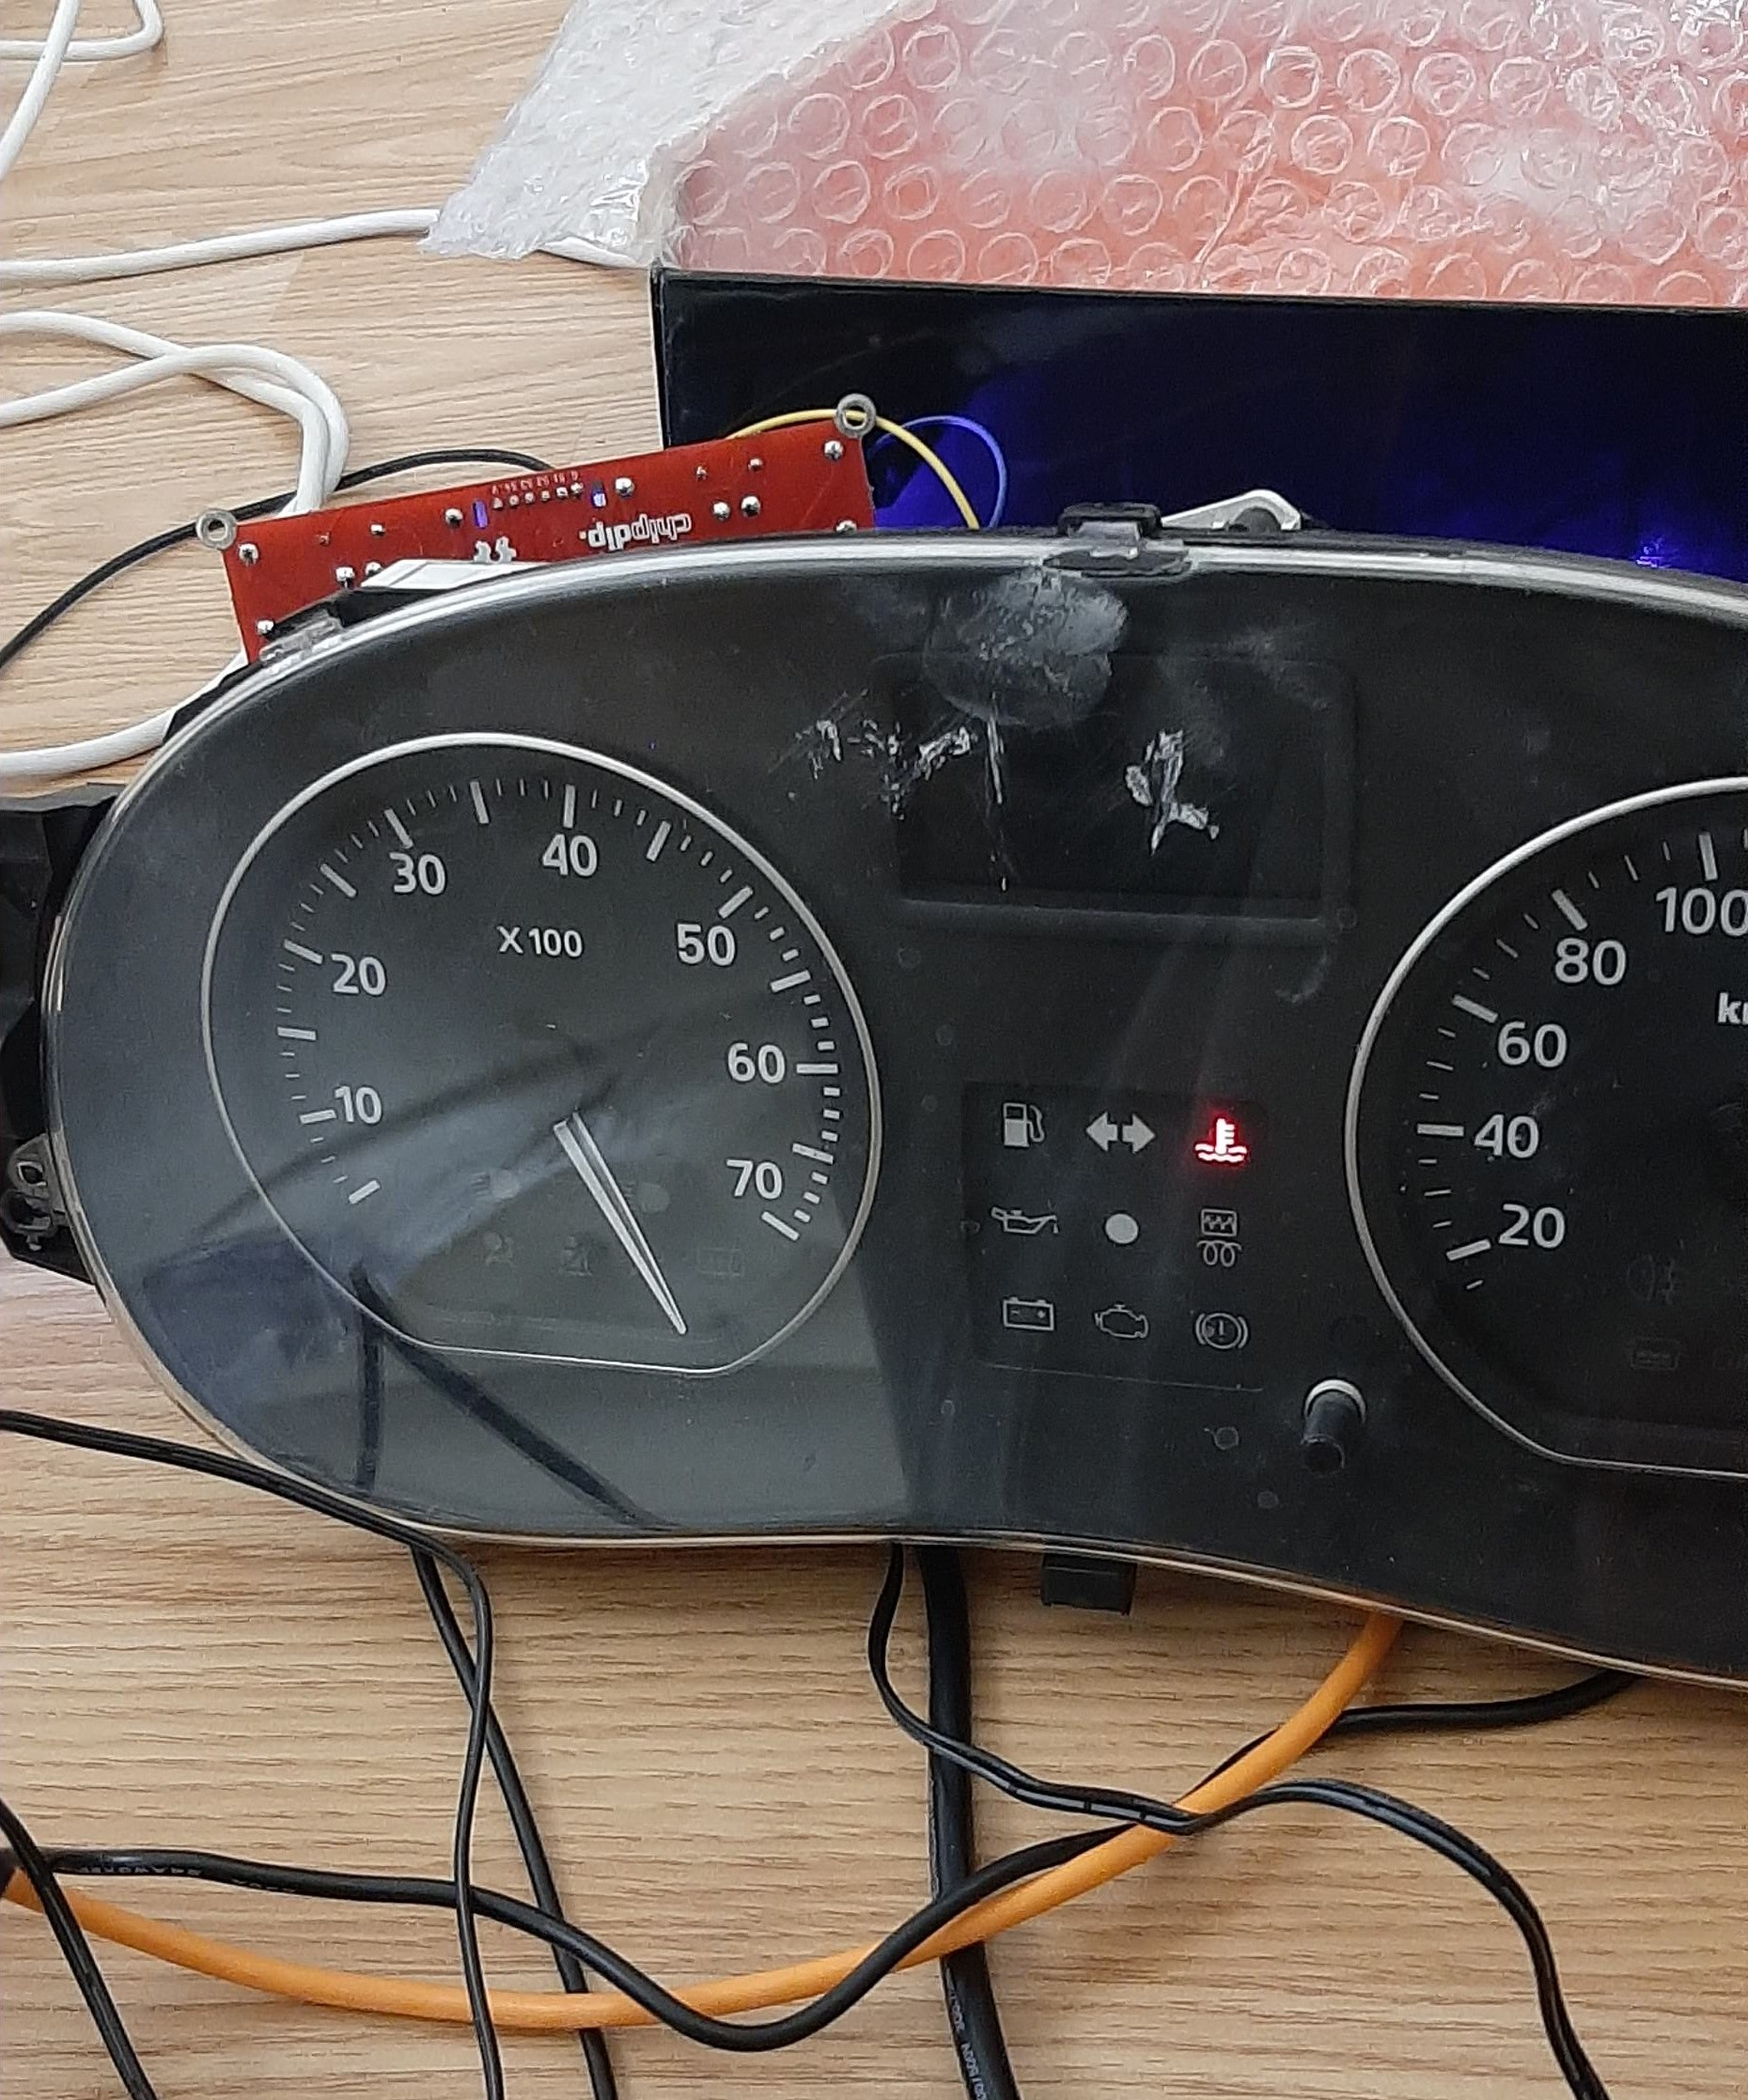Engine Overheating24: (1190, 1115, 1249, 1165)
